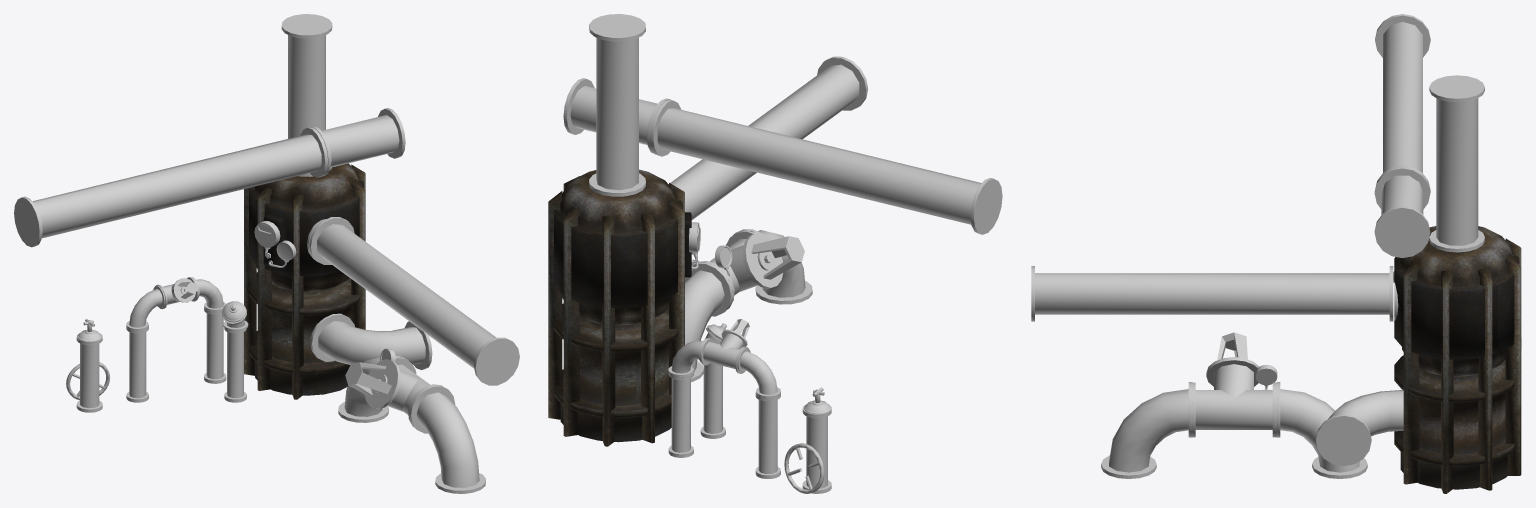
File: compressor_broken01.dae
3 renders of one model, left to right at view 1: azimuth 30°, elevation 25°; view 2: azimuth 150°, elevation 25°; view 3: azimuth 270°, elevation 25°, orthographic. The views are drawn at different scales.
Parts seen in each view (by area): view 1: Box363, Box362, Box364, Box365, Box366; view 2: Box363, Box362, Box364, Box365; view 3: Box363, Box362, Box364.
Part boxes in pixels (bbox=[...]): Box363: bbox=[33, 35, 495, 487]; Box362: bbox=[244, 163, 365, 399]; Box364: bbox=[14, 14, 519, 493]; Box365: bbox=[254, 221, 395, 361]; Box366: bbox=[77, 301, 246, 341]; Box363: bbox=[570, 37, 981, 493]; Box362: bbox=[548, 169, 691, 446]; Box364: bbox=[563, 14, 1002, 493]; Box365: bbox=[689, 222, 732, 276]; Box363: bbox=[1035, 22, 1521, 472]; Box362: bbox=[1394, 226, 1521, 493]; Box364: bbox=[1031, 14, 1484, 478].
Size of the model in its own units: 5.42 by 4.94 by 5.78.
